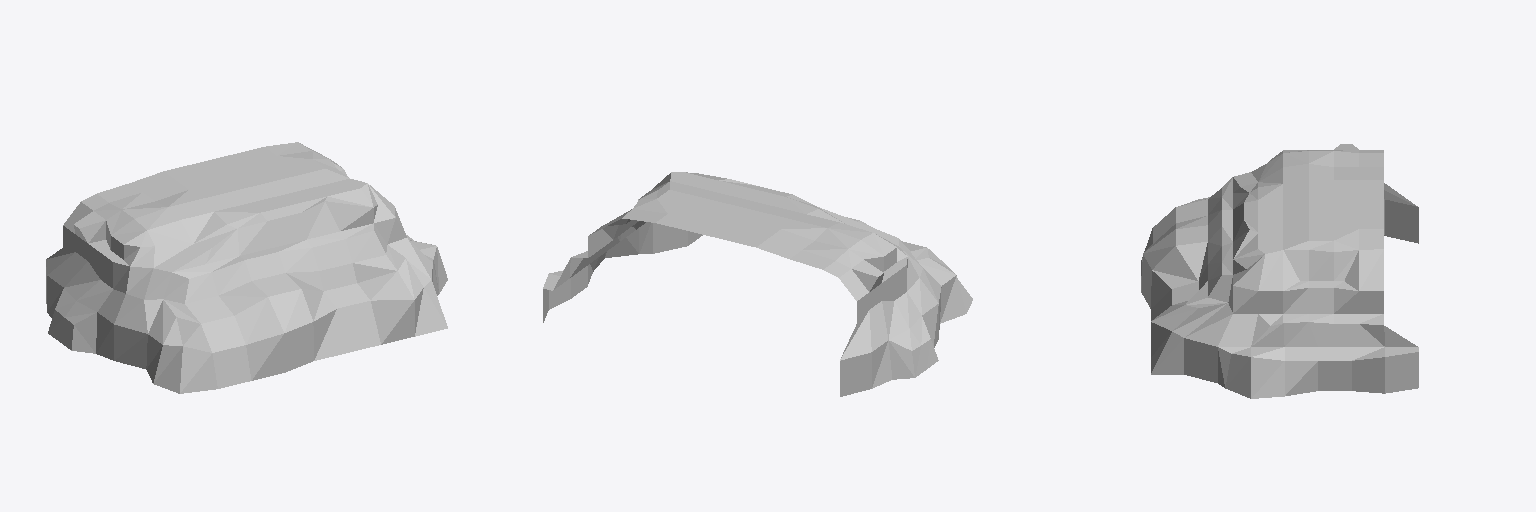
The model's file is mLv1Mountain01.obj.
The picture shows the model from 3 angles: view 1: azimuth 30°, elevation 25°; view 2: azimuth 150°, elevation 25°; view 3: azimuth 270°, elevation 25°; orthographic projection.
Visible parts, largest first — view 1: mMountain04; view 2: mMountain04; view 3: mMountain04.
Part boxes in pixels (left/top/right/bottom): mMountain04: left=46, top=142, right=447, bottom=393; mMountain04: left=543, top=172, right=972, bottom=396; mMountain04: left=1141, top=144, right=1418, bottom=398.
Bounding box in the file's own units: 58.24 × 17.65 × 39.31.